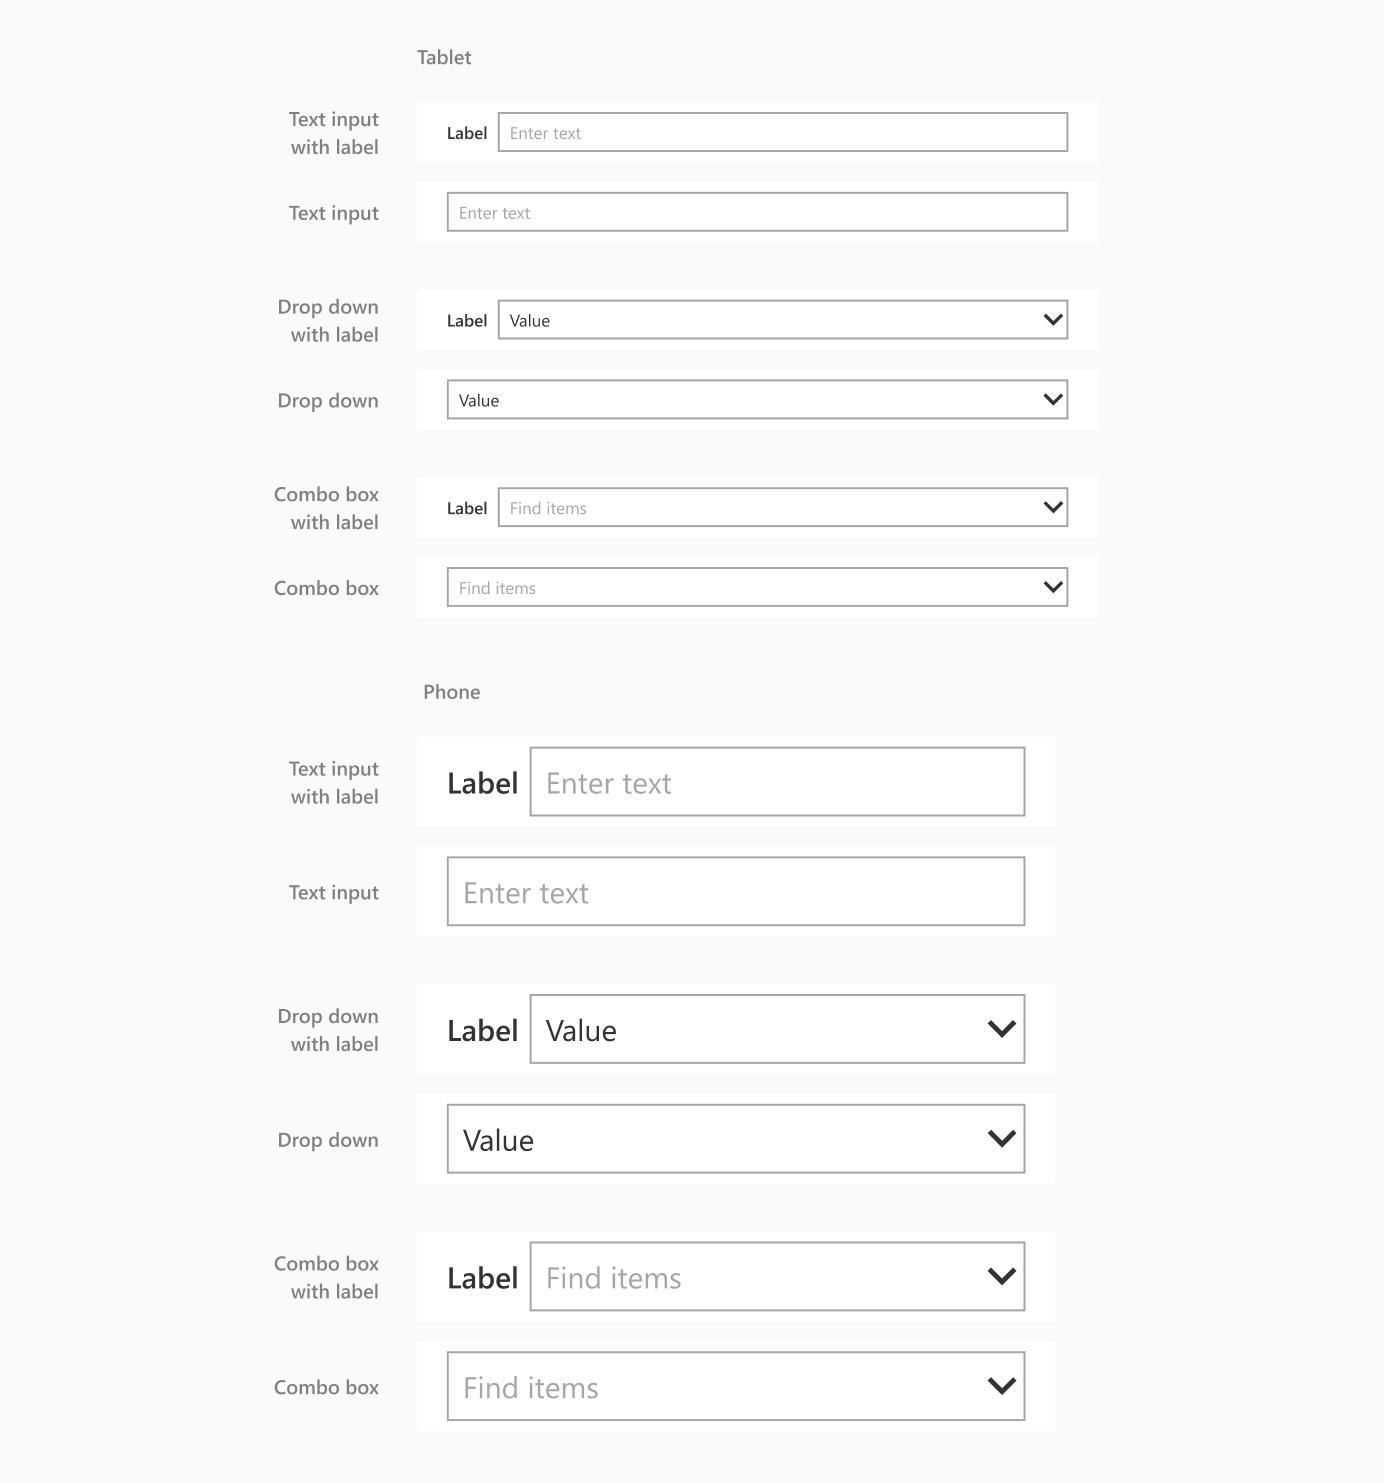dropdown: (449, 1353, 1026, 1422), (449, 1107, 1024, 1173), (531, 995, 1025, 1064), (531, 1244, 1026, 1311), (447, 568, 1069, 606), (450, 381, 1069, 419), (499, 301, 1068, 340), (499, 489, 1069, 526)
input: (447, 859, 1025, 928), (532, 749, 1026, 816), (447, 193, 1069, 232), (499, 114, 1069, 152)
label: (276, 101, 395, 168), (267, 479, 389, 540), (267, 1248, 390, 1306), (271, 295, 388, 353), (272, 1004, 385, 1062), (286, 748, 380, 813), (265, 1365, 393, 1408), (281, 875, 385, 925), (258, 572, 392, 608), (436, 1257, 526, 1301), (442, 1009, 526, 1052), (276, 386, 389, 418), (405, 34, 484, 78), (267, 1127, 386, 1155), (282, 195, 388, 225), (418, 676, 490, 710), (447, 768, 522, 797), (441, 490, 494, 523), (441, 310, 492, 336), (447, 121, 490, 147)
